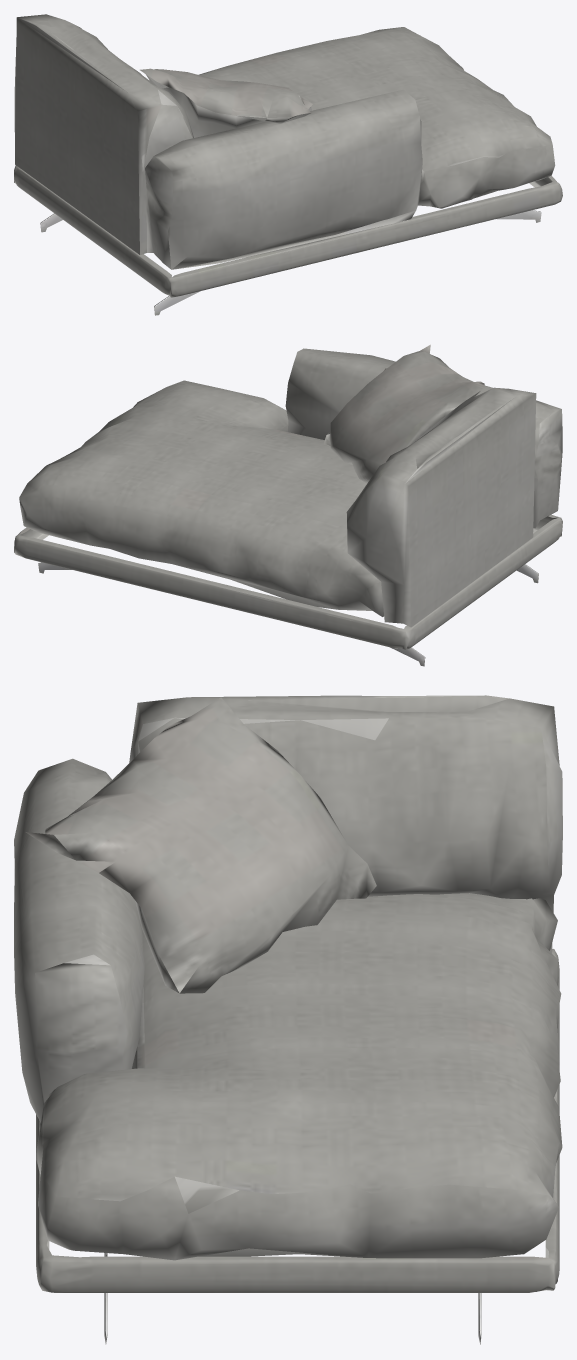
Rendered from M_Sofa0019.obj.
The picture shows the model from 3 angles, top to bottom: view 1: azimuth 30°, elevation 25°; view 2: azimuth 150°, elevation 25°; view 3: azimuth 270°, elevation 25°; orthographic projection. The views are drawn at different scales.
Bounding box in the file's own units: 1.39 × 0.707 × 0.991.
1 material, 1 textured.
